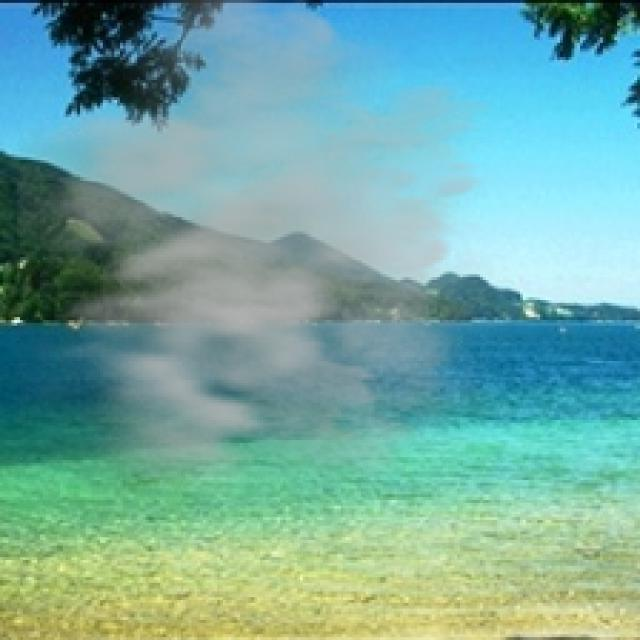smoke: (17, 0, 543, 517)
